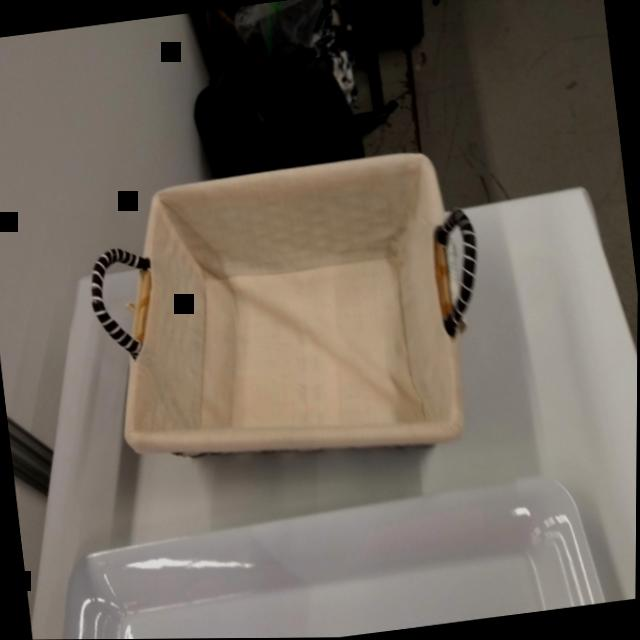basket: (82, 144, 505, 499)
tray: (36, 471, 614, 640)
